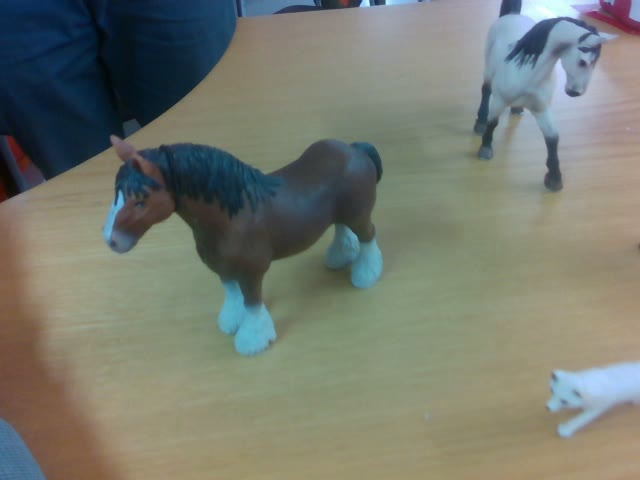toy: (103, 136, 384, 355), (471, 1, 620, 193)
